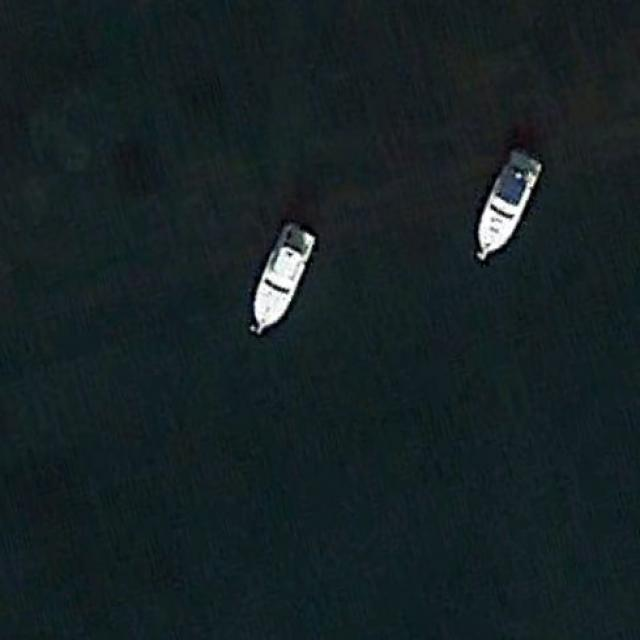ship: (477, 140, 547, 260), (251, 216, 317, 332)
